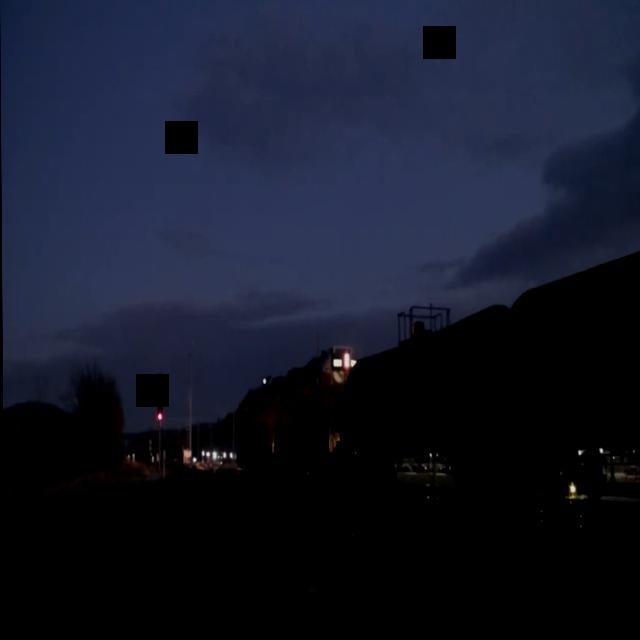locomotive: (267, 338, 354, 494)
tank: (491, 209, 640, 513), (335, 285, 515, 499)
